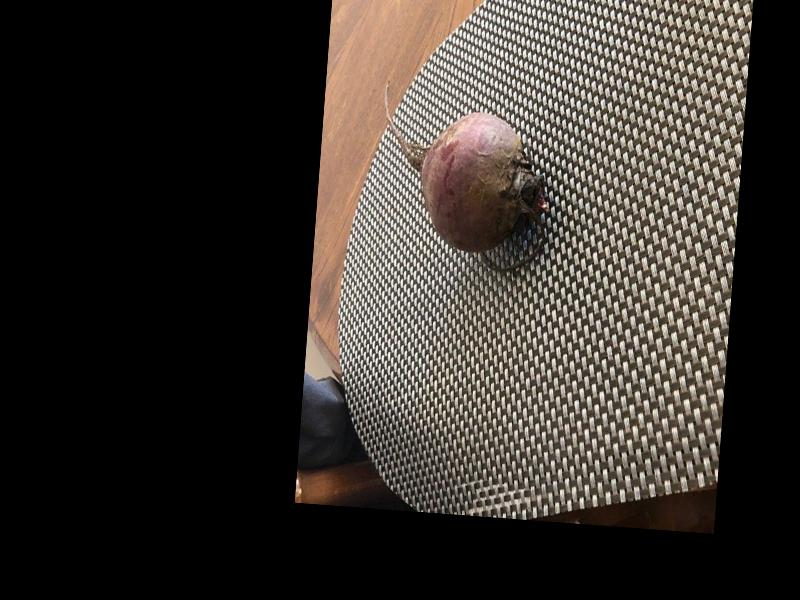Beet: (372, 82, 557, 276)
